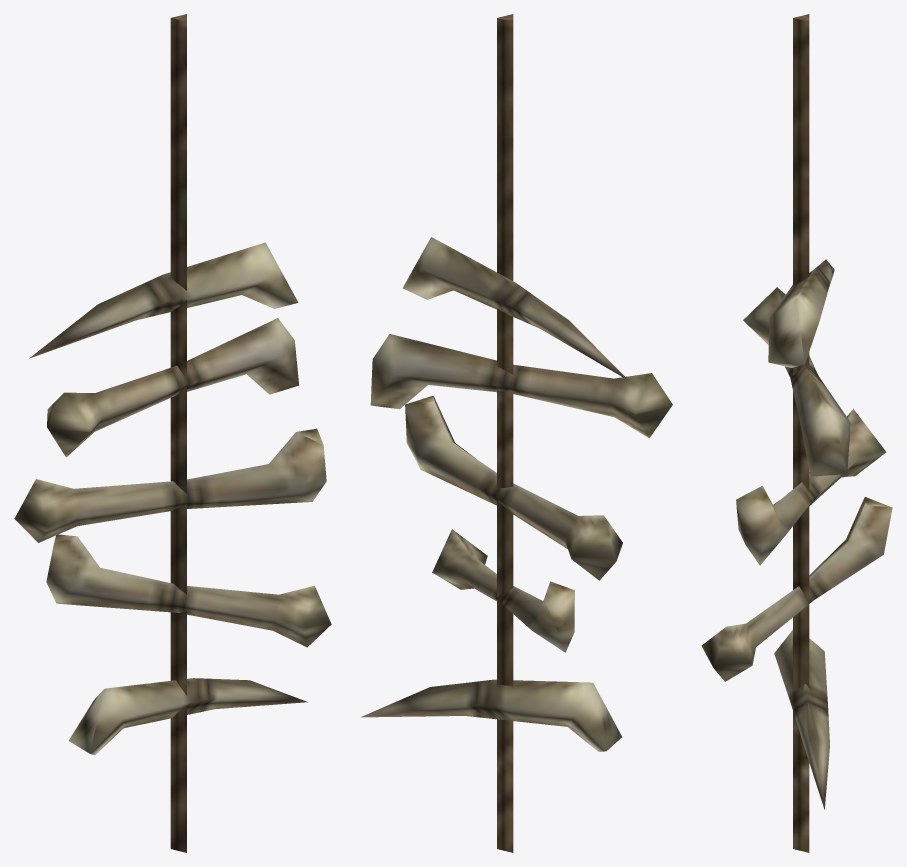
File: Camp4.fbx
3 views of the same model, side by side, from view 1: azimuth 30°, elevation 25°; view 2: azimuth 150°, elevation 25°; view 3: azimuth 270°, elevation 25° (orthographic).
Parts seen in each view (by area): view 1: Camp4; view 2: Camp4; view 3: Camp4.
Boxes of the visible parts, bbox=[...] form: Camp4: bbox=[14, 14, 331, 852]; Camp4: bbox=[361, 14, 672, 852]; Camp4: bbox=[701, 14, 892, 852].
Bounding box in the file's own units: 3.36 × 9.28 × 1.94.
